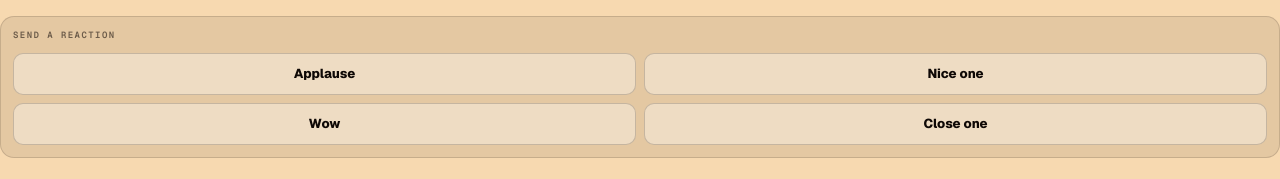
RoomMagicReactionControls › posts the selected reaction and locks the controls after a successful tap
This screenshot has width=1280, height=179.
What coordinates should you click on to do the following:
click the button "Wow"
I would click on:
 (324, 124)
Its box is [13,102,636,144].
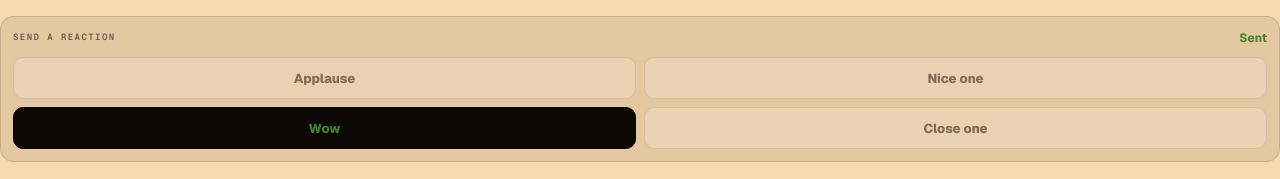
Expected: the text "Sent" is shown, [1239,30,1267,46]
Expected: the button "Applause" is disabled, [13,57,636,99]
Expected: the button "Nice one" is disabled, [644,57,1267,99]
